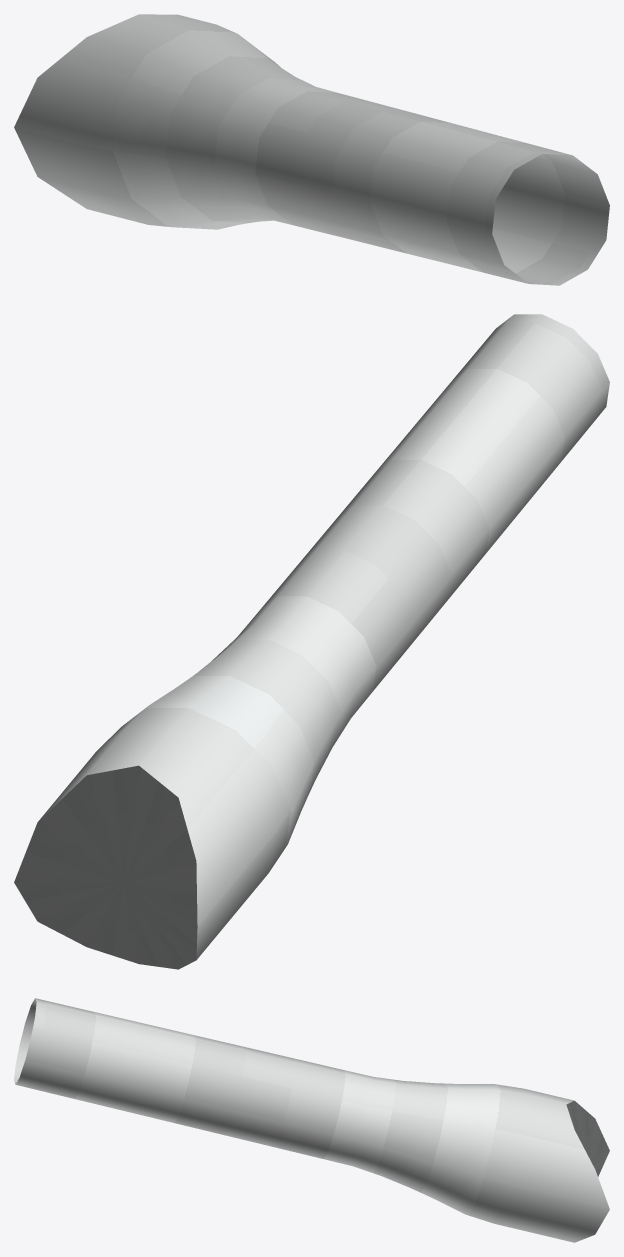
File: luminairearm_caltrans15ftstraightdouble_c8_pedestal.obj
3 views of the same model, one above another, from view 1: azimuth 30°, elevation 25°; view 2: azimuth 150°, elevation 25°; view 3: azimuth 270°, elevation 25° (orthographic). The views are drawn at different scales.
Parts seen in each view (by area): view 1: luminairearm_caltrans15ftstraightdouble_c8_pedestal; view 2: luminairearm_caltrans15ftstraightdouble_c8_pedestal; view 3: luminairearm_caltrans15ftstraightdouble_c8_pedestal.
Boxes of the visible parts, x1=… form: luminairearm_caltrans15ftstraightdouble_c8_pedestal: x1=14, y1=14, x2=609, y2=285; luminairearm_caltrans15ftstraightdouble_c8_pedestal: x1=14, y1=314, x2=609, y2=969; luminairearm_caltrans15ftstraightdouble_c8_pedestal: x1=14, y1=998, x2=609, y2=1242.
Bounding box in the file's own units: 0.3375 × 0.6227 × 1.45.
